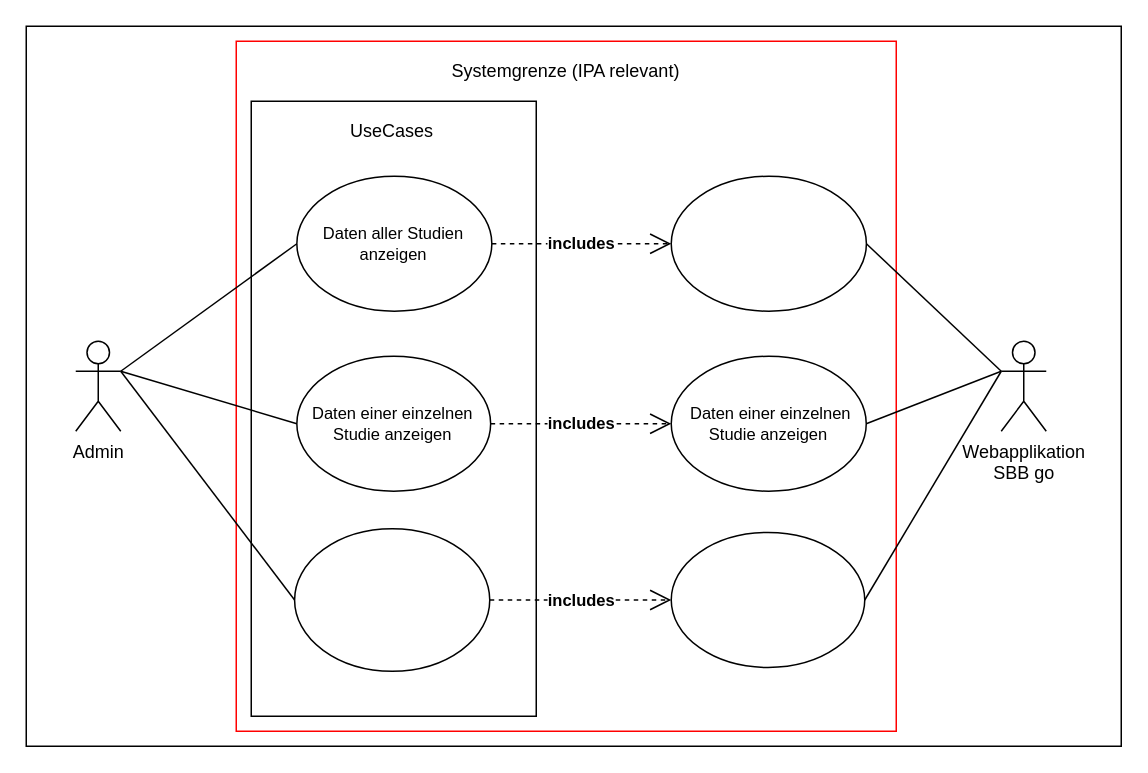
Image size: 1148x773. Some labels were removed from this diagram. The centre of each missing label's shape, as x and y in pixels:
"Benötigte Daten aller Studien anzeigen" belongs at (768,243).
"Berührungspunkte nach Kriterien filtern" belongs at (391,599).
"Gefilterte Tabelle anezigen" belongs at (767,599).
